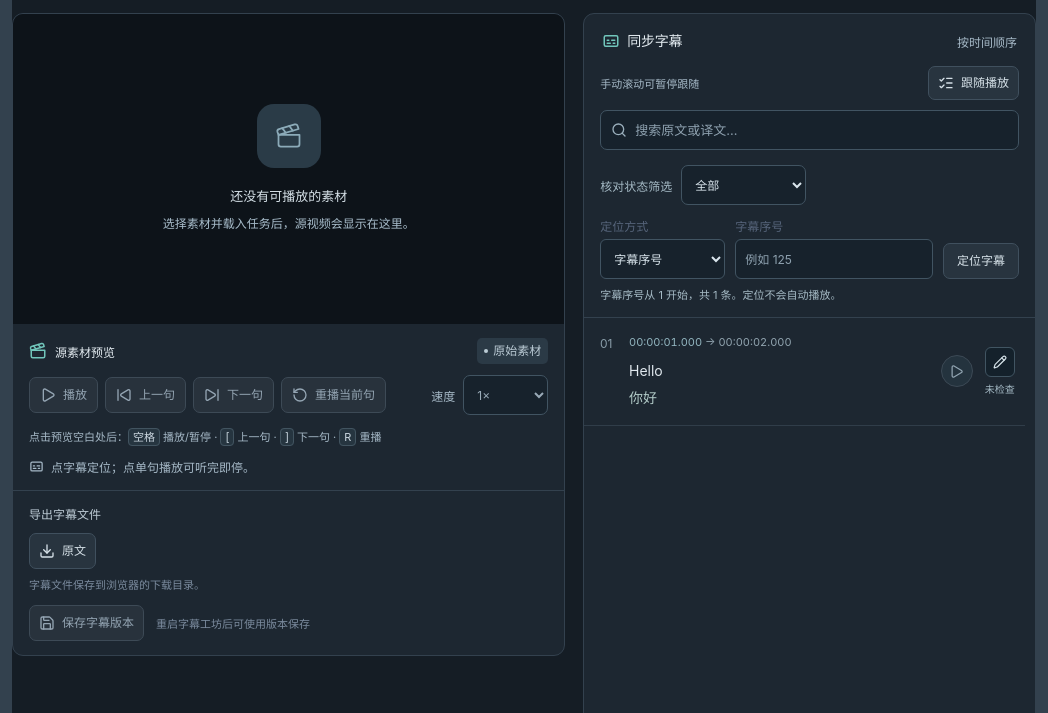
Test: direct video download controls › blocks both cards while the editor contains unsaved text
Click the button named "编辑第 1 句": (1000, 362) [985, 346, 1015, 376]
(page scrolled)
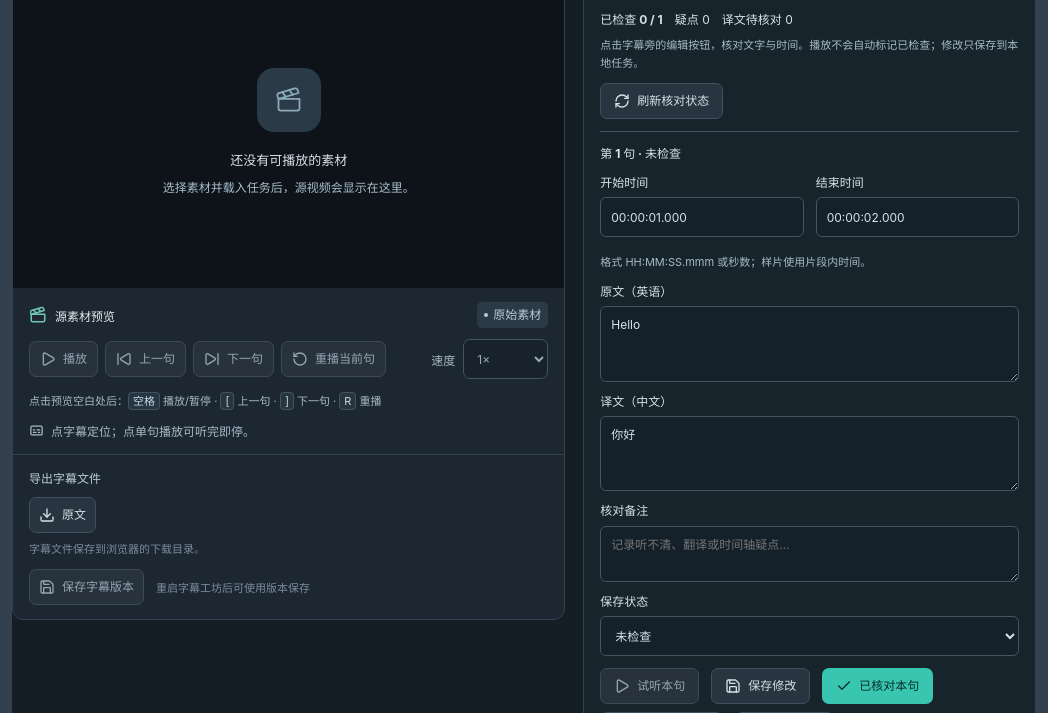
Replace the text in the text box labelled "原文（英语）" with "Unsaved": (810, 344) [600, 306, 1019, 382]
(page scrolled)
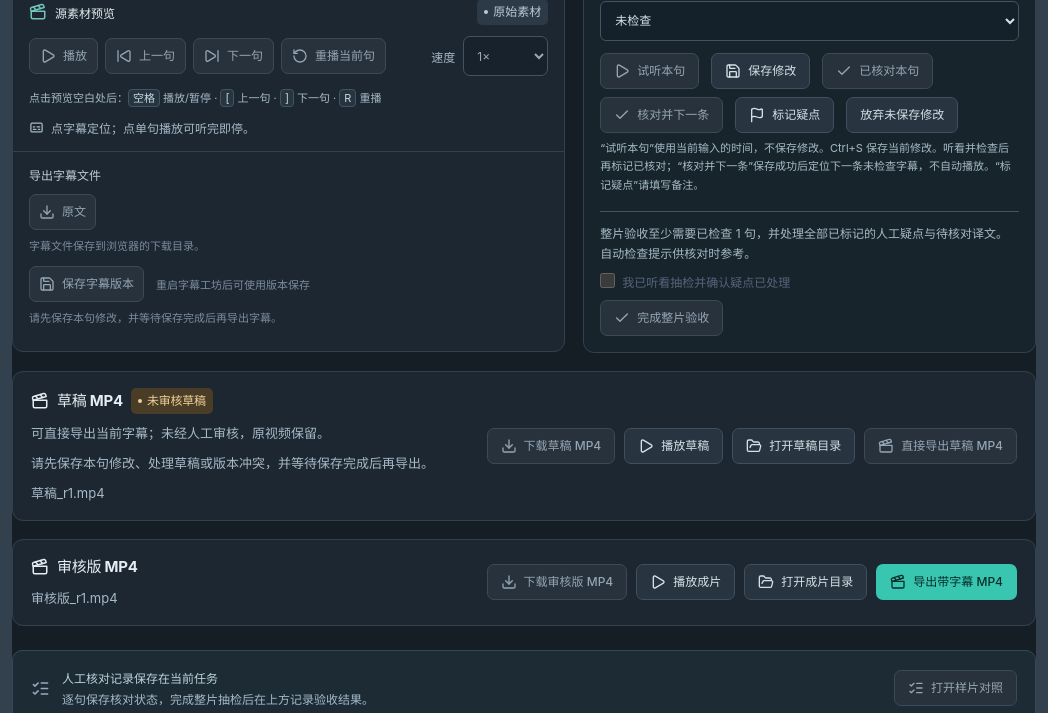
Now the button "下载草稿 MP4" is disabled, box [486, 428, 615, 464]
Now the button "下载审核版 MP4" is disabled, box [486, 564, 627, 600]
